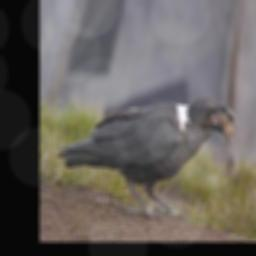Crow: (53, 92, 236, 223)
